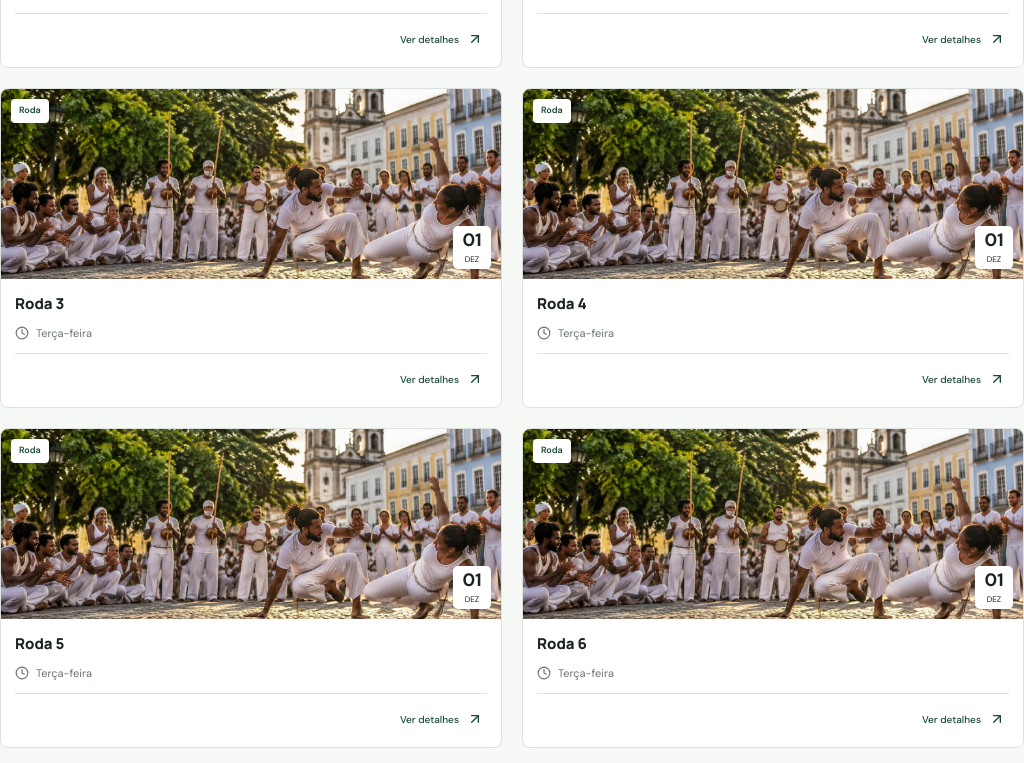
Scenario: Participação em eventos/rodas: contagem e 'inscrito' vêm da listagem (sem GET /participants por card) › fonte sem resumo (/calendar): nada de /participants ao listar; ao abrir os detalhes consulta SÓ aquele card e acha a própria inscrição
The image size is (1024, 763).
(page scrolled)
Click the 3rd button "Ver detalhes" at x=441, y=379, box [396, 365, 487, 393]
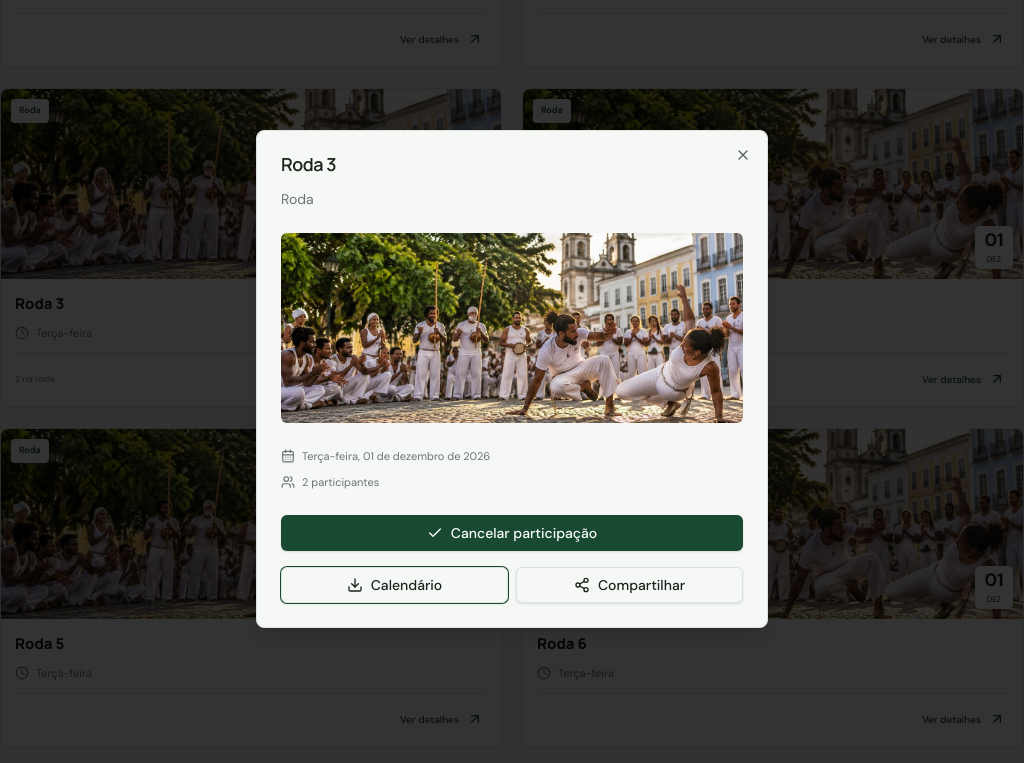
Expected: the text "2 participantes" is shown, [281, 474, 379, 489]
Expected: the button "Cancelar participação" is shown, [281, 515, 743, 551]
